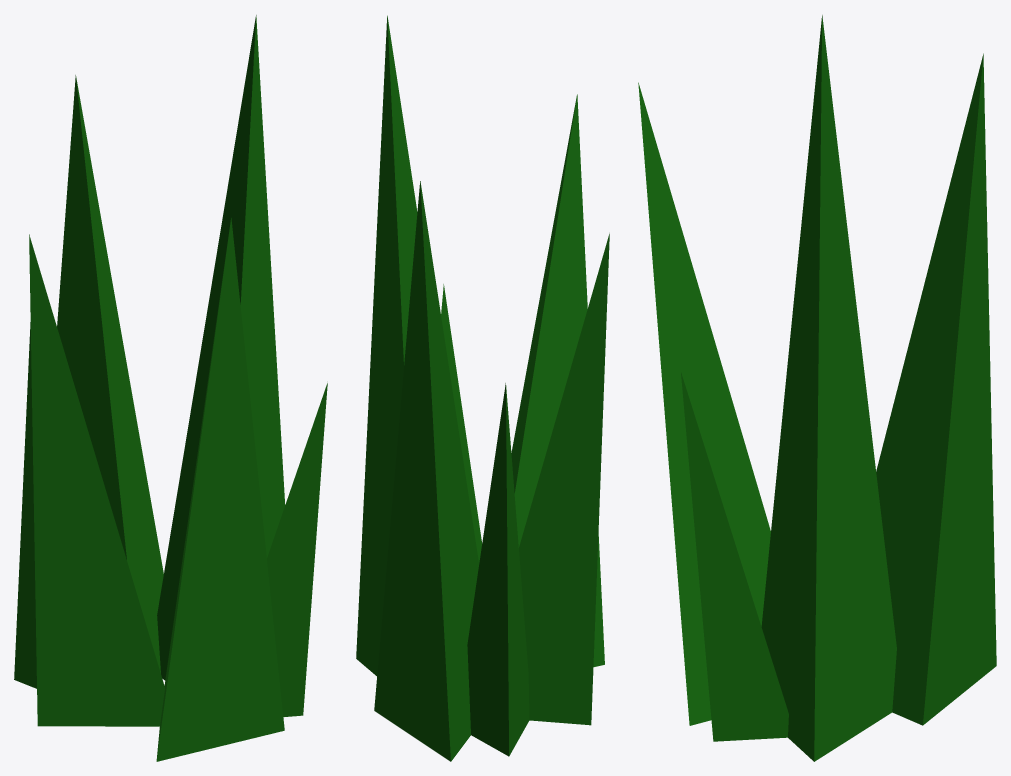
File: Gras.fbx
The picture shows the model from 3 angles, left to right: view 1: azimuth 30°, elevation 25°; view 2: azimuth 150°, elevation 25°; view 3: azimuth 270°, elevation 25°; orthographic projection. The views are drawn at different scales.
Parts seen in each view (by area): view 1: Cone; view 2: Cone; view 3: Cone.
Part boxes in pixels (bbox=[...]): Cone: bbox=[14, 15, 327, 761]; Cone: bbox=[356, 15, 609, 761]; Cone: bbox=[638, 15, 996, 761].
Size of the model in its own units: 64.41 by 156 by 69.69.
